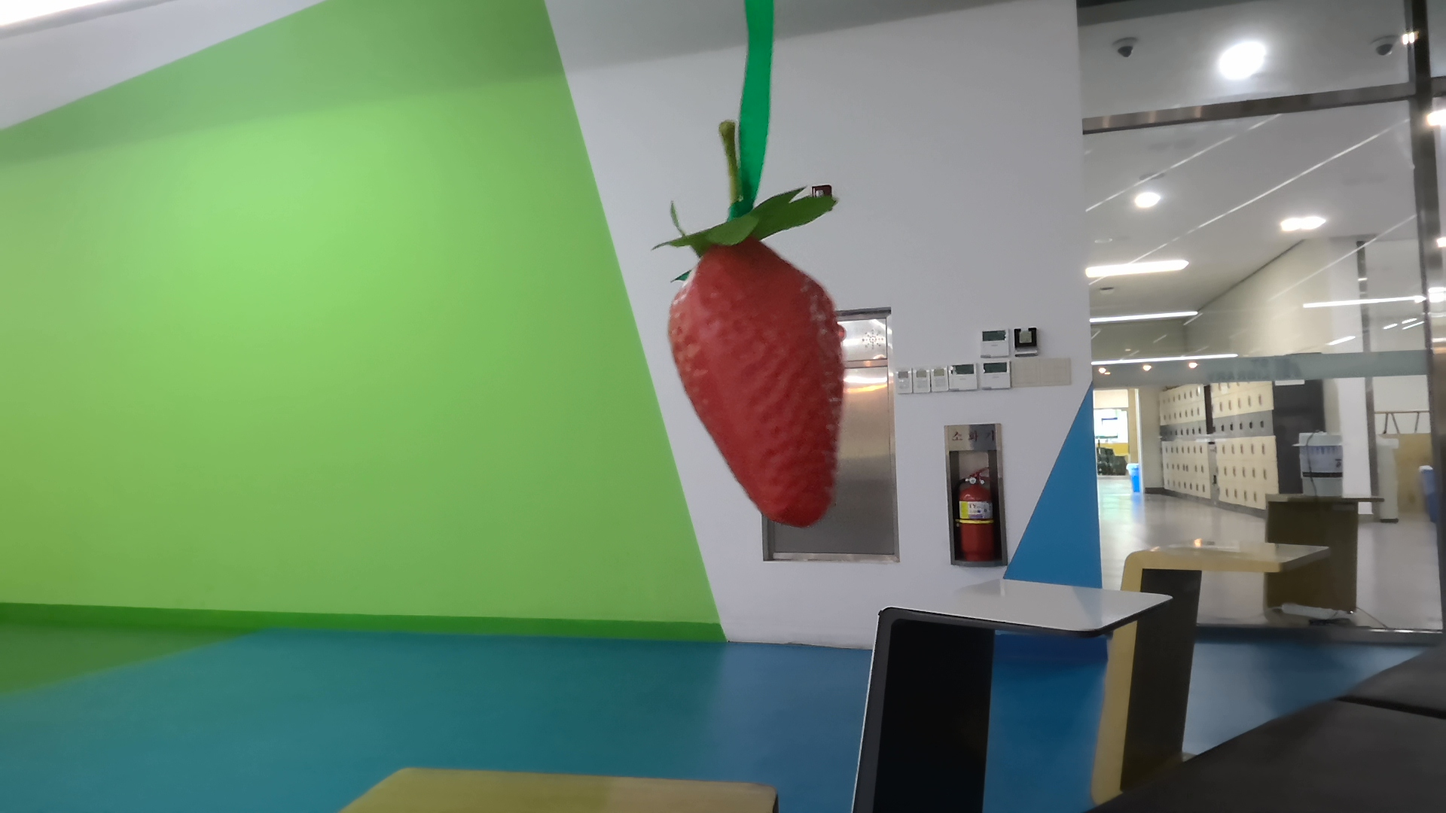strawberry: (650, 219, 871, 527)
